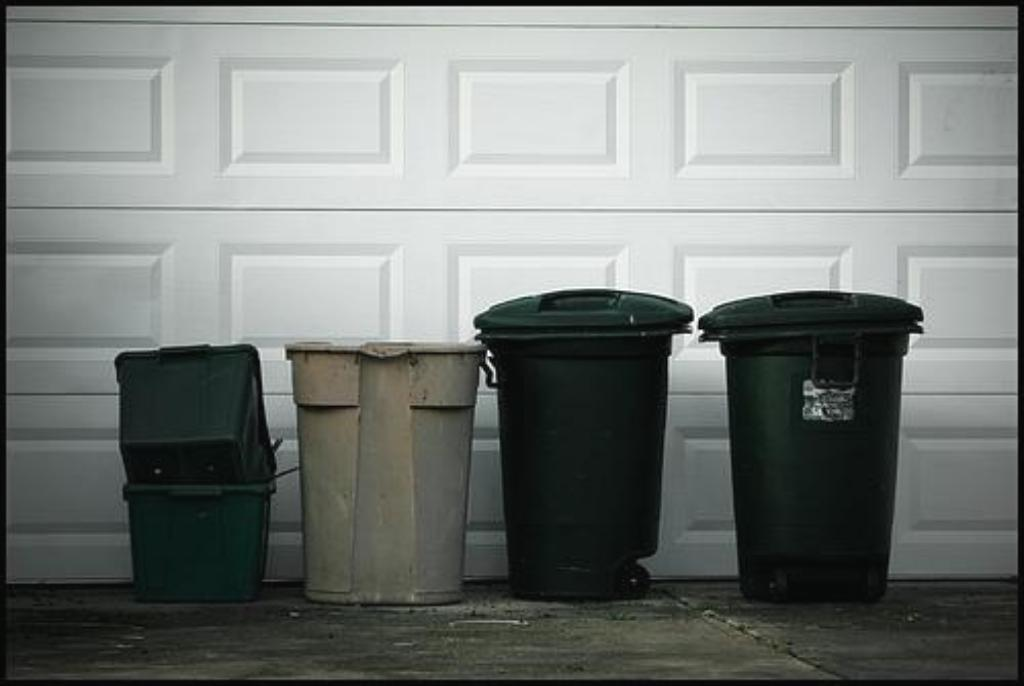dustbin: (472, 266, 705, 610), (693, 288, 939, 602)
garbage: (277, 316, 487, 614)
